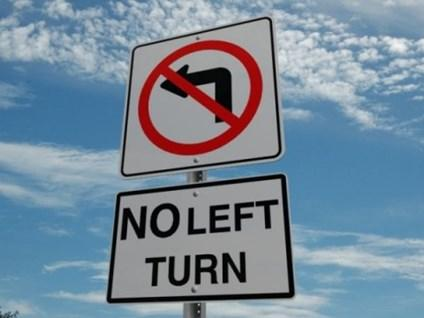no_left_turn: (138, 39, 261, 154)
